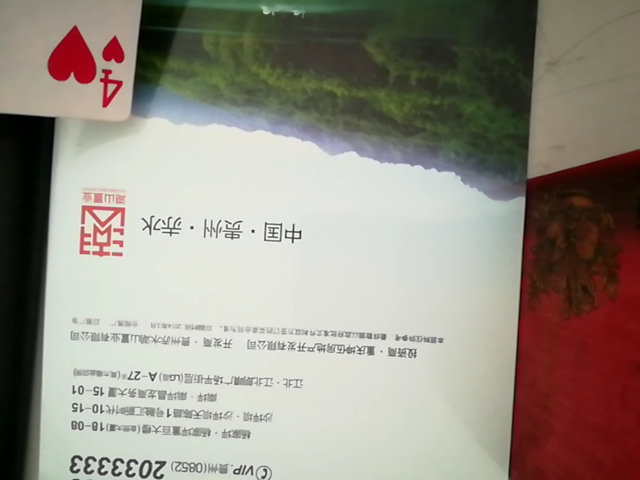hx 4: (2, 0, 223, 142)
